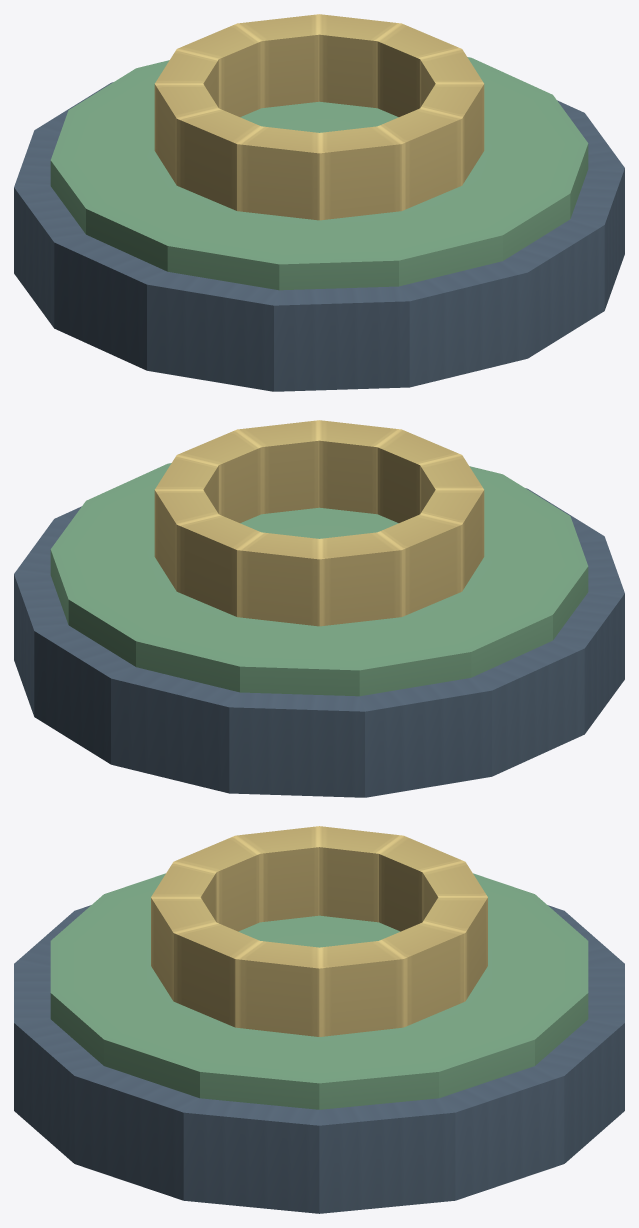
The model's file is spring_pad.glb.
3 views of the same model, one above another, from view 1: azimuth 30°, elevation 25°; view 2: azimuth 150°, elevation 25°; view 3: azimuth 270°, elevation 25° (orthographic). The views are drawn at different scales.
Parts seen in each view (by area): view 1: spring_pad; view 2: spring_pad; view 3: spring_pad.
Part boxes in pixels (x1,y1,x2,y2): spring_pad: [14, 14, 624, 391]; spring_pad: [14, 420, 624, 797]; spring_pad: [14, 826, 624, 1213].
Bounding box in the file's own units: 2.9 × 0.94 × 2.83.
Materials: 1 (1 with a texture image).
